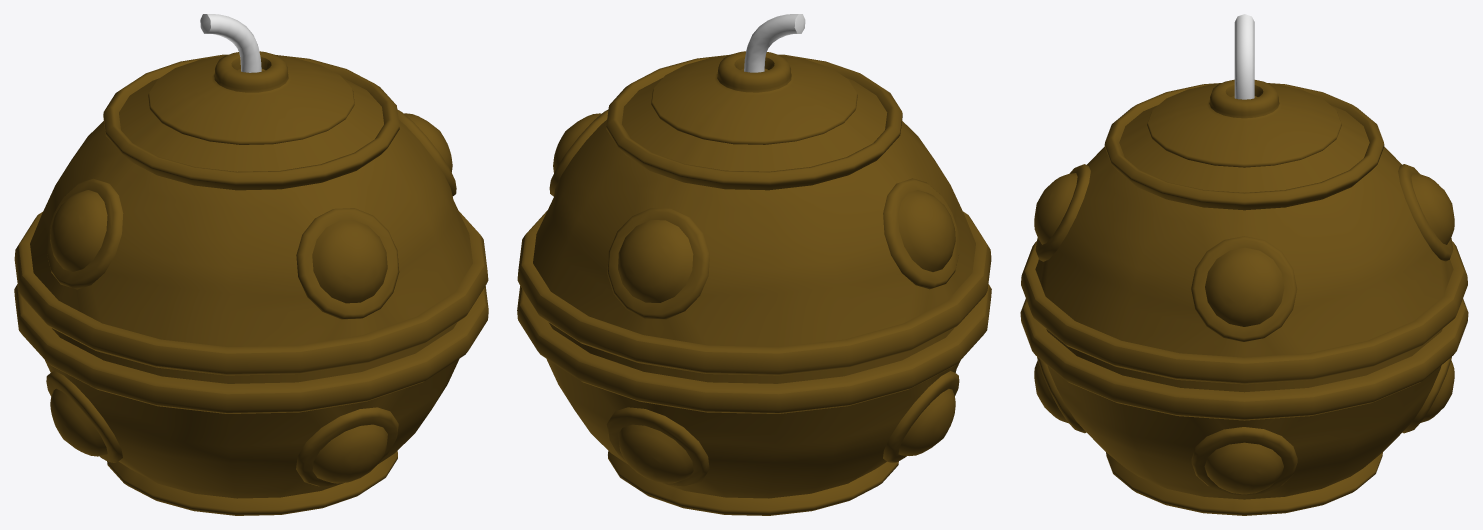
The model's file is SM_Turret_projectile.fbx.
The picture shows the model from 3 angles, left to right: view 1: azimuth 30°, elevation 25°; view 2: azimuth 150°, elevation 25°; view 3: azimuth 270°, elevation 25°; orthographic projection. The views are drawn at different scales.
Parts seen in each view (by area): view 1: bombe; view 2: bombe; view 3: bombe.
Boxes of the visible parts, left/top/right/bottom form: bombe: left=14, top=14, right=488, bottom=515; bombe: left=517, top=14, right=991, bottom=515; bombe: left=1020, top=14, right=1468, bottom=515.
Size of the model in its own units: 35.41 by 40.23 by 35.41.
